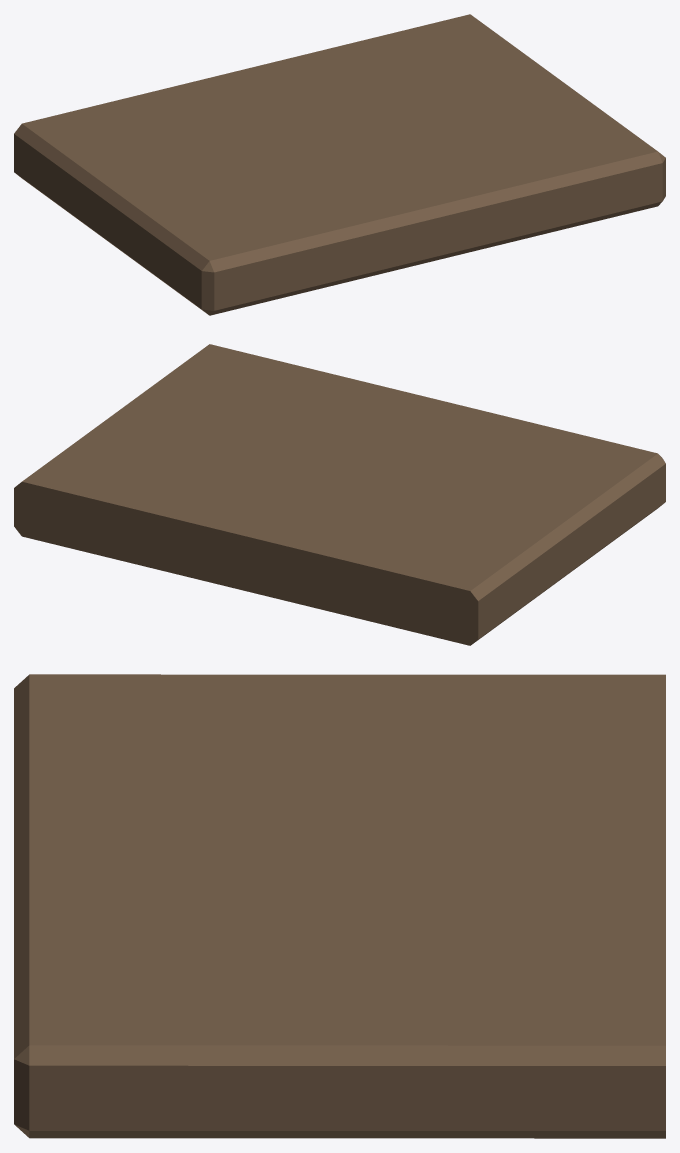
Rendered from Tesla_Door.fbx.
3 views of the same model, one above another, from view 1: azimuth 30°, elevation 25°; view 2: azimuth 150°, elevation 25°; view 3: azimuth 270°, elevation 25° (orthographic). The views are drawn at different scales.
Parts seen in each view (by area): view 1: pCube6; view 2: pCube6; view 3: pCube6.
Boxes of the visible parts, x1,y1,x2,y2 form: pCube6: (14, 14, 665, 315); pCube6: (14, 344, 665, 645); pCube6: (14, 674, 665, 1138).
Size of the model in its own units: 236 by 26.69 by 169.
